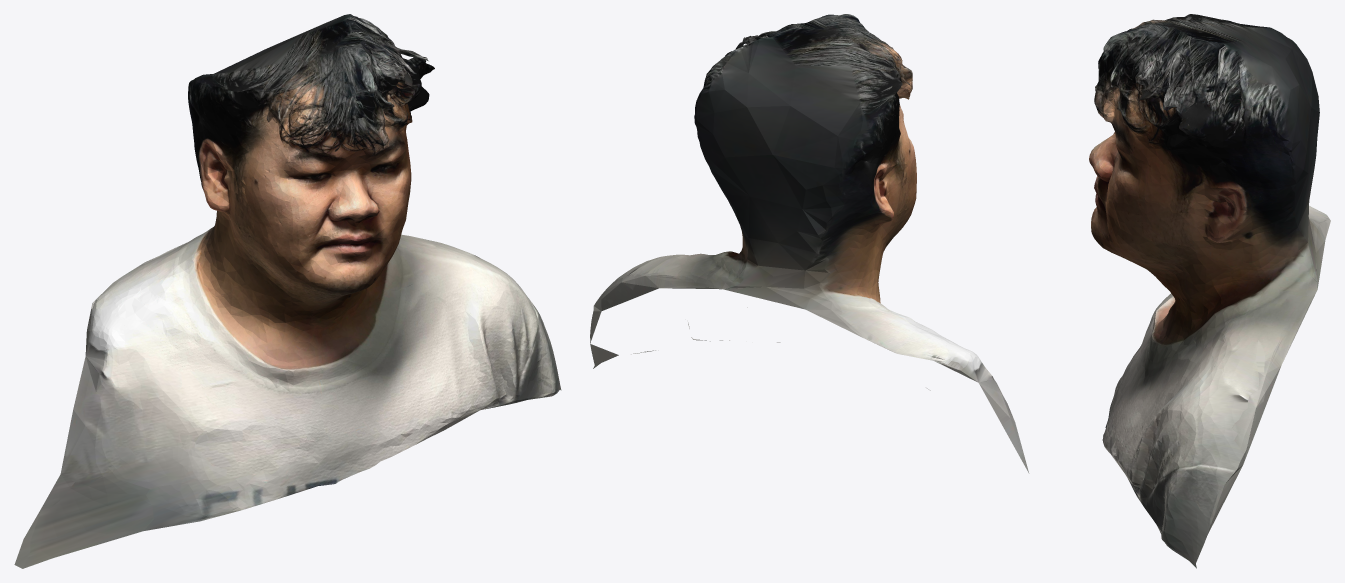
Rendered from scan-head.glb.
3 renders of one model, left to right at view 1: azimuth 30°, elevation 25°; view 2: azimuth 150°, elevation 25°; view 3: azimuth 270°, elevation 25°, orthographic. The views are drawn at different scales.
Parts seen in each view (by area): view 1: dec.obj; view 2: dec.obj; view 3: dec.obj.
Boxes of the visible parts, x1,y1,x2,y2 form: dec.obj: (14,14,561,568); dec.obj: (590,14,1029,473); dec.obj: (1089,14,1330,568).
Size of the model in its own units: 2.26 by 2 by 0.883.
Materials: 1 (1 with a texture image).
